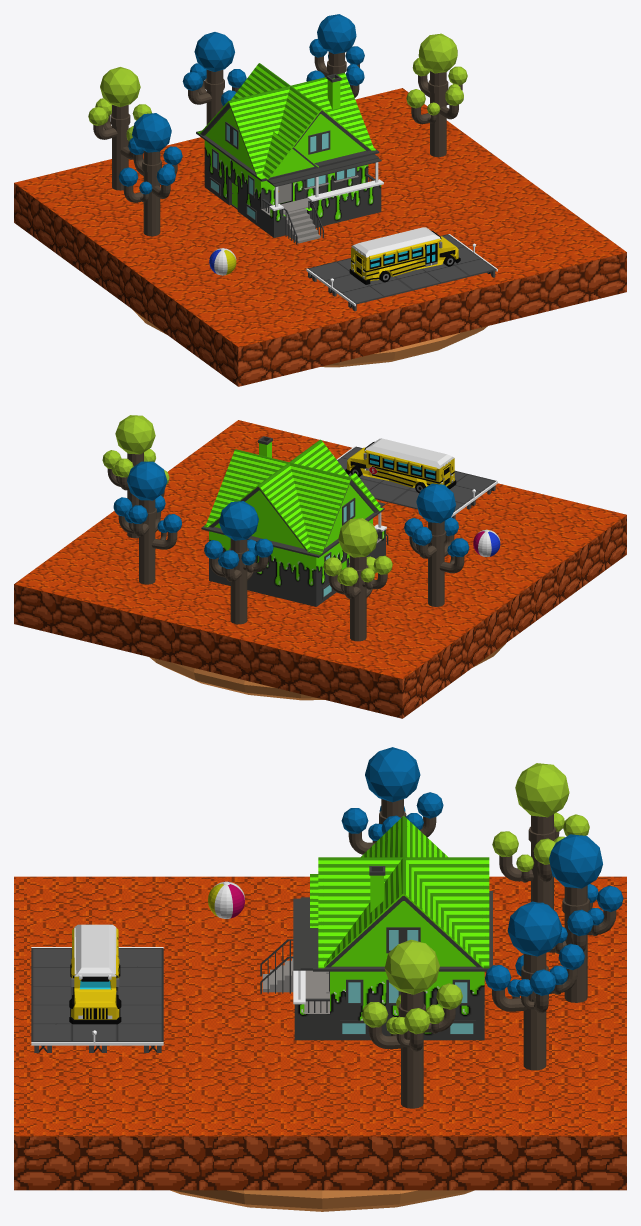
3 views of the same model, one above another, from view 1: azimuth 30°, elevation 25°; view 2: azimuth 150°, elevation 25°; view 3: azimuth 270°, elevation 25° (orthographic). The views are drawn at different scales.
Visible parts, largest first — view 1: Cube.001, Cube.754, VEHICLES_SCHOOL_BUS, UNDERGROUND_PIZZA, OBJRANDOM_BEACHBALL; view 2: Cube.001, Cube.754, VEHICLES_SCHOOL_BUS, UNDERGROUND_PIZZA, OBJRANDOM_BEACHBALL; view 3: Cube.001, Cube.754, VEHICLES_SCHOOL_BUS, UNDERGROUND_PIZZA, OBJRANDOM_BEACHBALL.
Part boxes in pixels (box(x1,y1,x2,y2)): Cube.001: box(14, 14, 626, 386); Cube.754: box(196, 63, 383, 244); VEHICLES_SCHOOL_BUS: box(349, 227, 460, 284); UNDERGROUND_PIZZA: box(132, 309, 487, 367); OBJRANDOM_BEACHBALL: box(209, 248, 236, 275); Cube.001: box(14, 415, 626, 718); Cube.754: box(201, 436, 388, 606); VEHICLES_SCHOOL_BUS: box(345, 438, 456, 493); UNDERGROUND_PIZZA: box(149, 643, 505, 700); OBJRANDOM_BEACHBALL: box(473, 529, 500, 556); Cube.001: box(14, 747, 626, 1190); Cube.754: box(260, 816, 492, 1040); VEHICLES_SCHOOL_BUS: box(69, 924, 121, 1024); UNDERGROUND_PIZZA: box(170, 1190, 474, 1211); OBJRANDOM_BEACHBALL: box(208, 881, 244, 918).
Bounding box in the file's own units: 4000 × 1875 × 4000.
36 materials, 5 textured.
